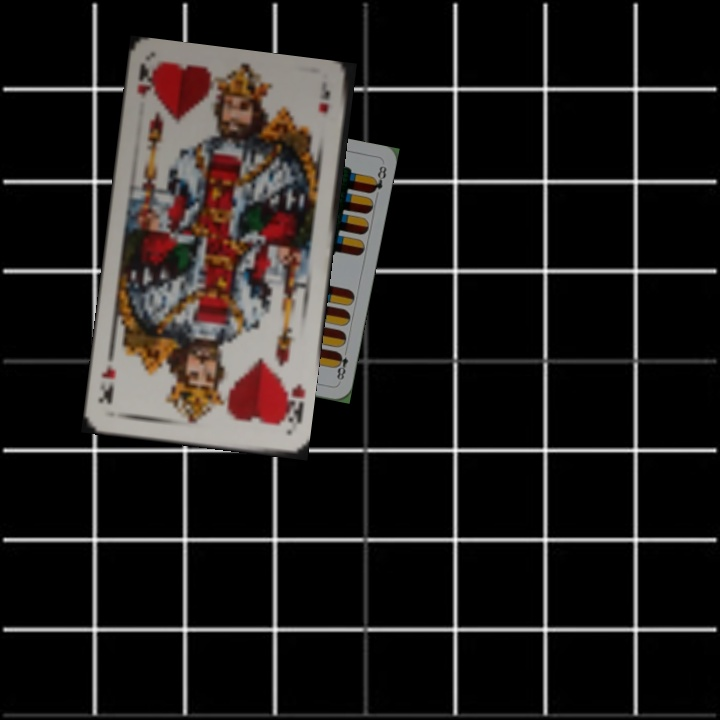E8: (332, 345, 351, 385)
HK: (276, 378, 308, 428), (132, 61, 160, 101)
